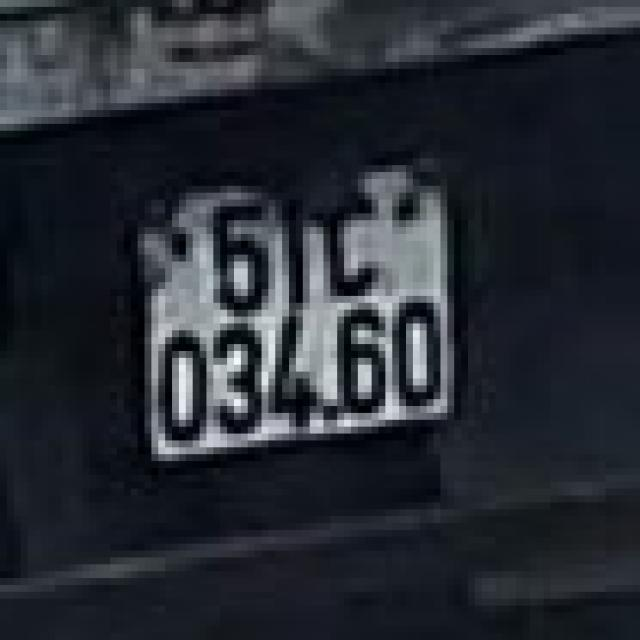0: (158, 331, 209, 444), (393, 297, 443, 407)
1: (280, 196, 316, 312)
3: (212, 324, 266, 436)
4: (272, 313, 314, 430)
5: (211, 196, 272, 317)
6: (336, 306, 388, 416)
C: (323, 191, 378, 300)
